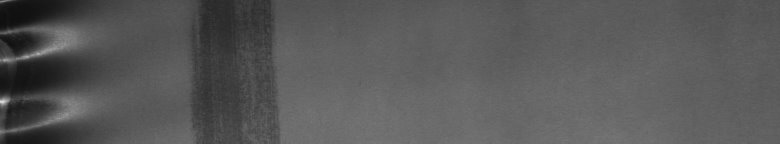ke: (4, 8, 88, 136)
